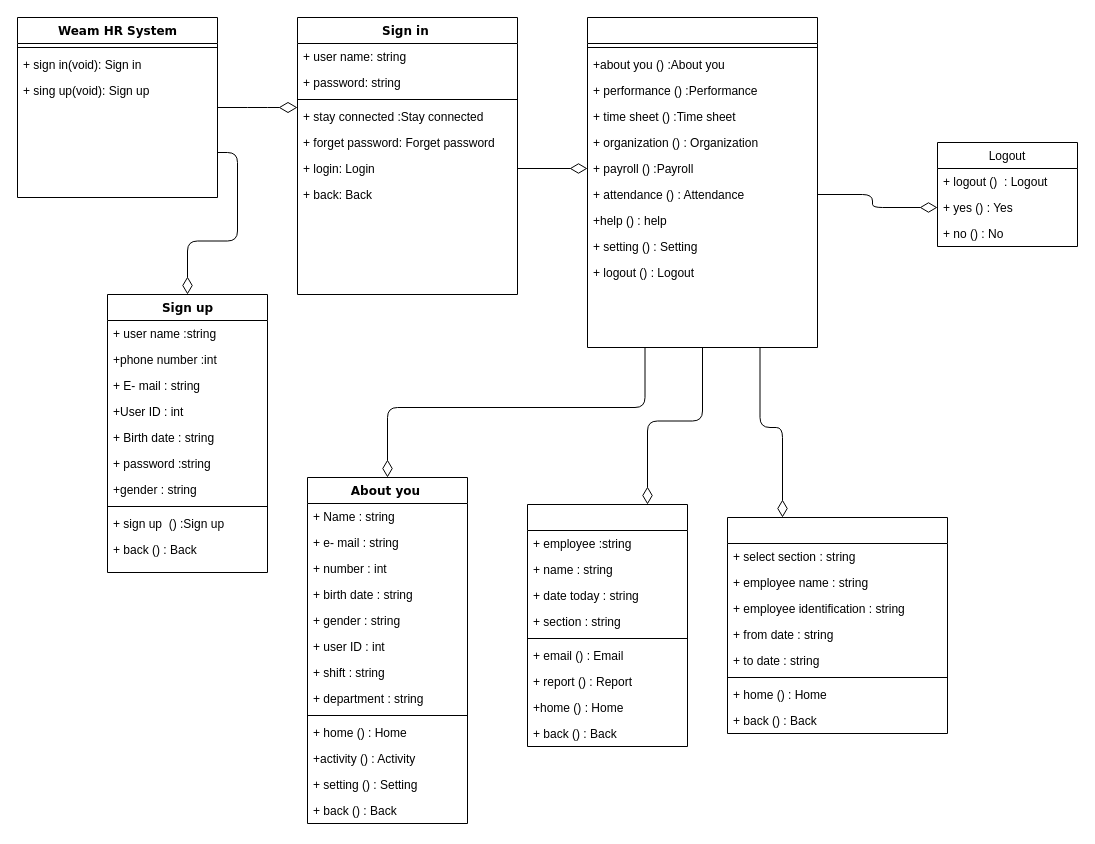
Some shapes in this 1095 by 844 pixel diagram are drawn without their labels. Each missing label, with the box of its shape:
Home: (586, 16, 818, 348)
Pay Roll: (526, 504, 688, 746)
Time sheet: (726, 516, 948, 734)
